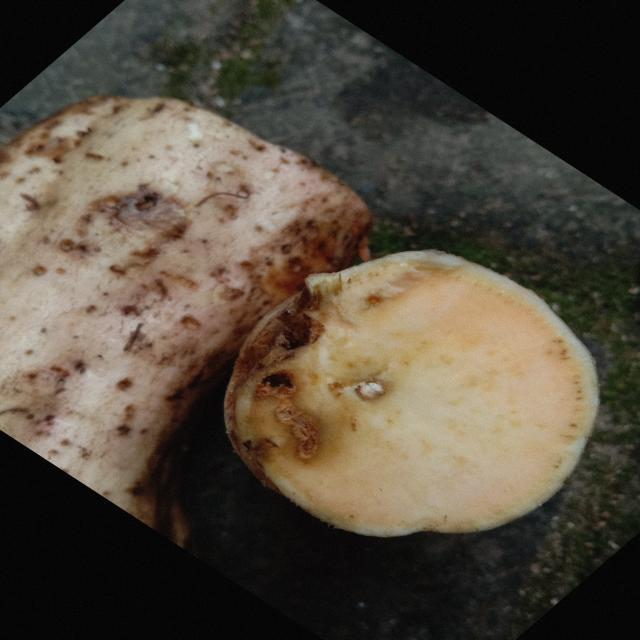Sick Sweet Potato_Tuber Rot: (225, 250, 598, 536)
